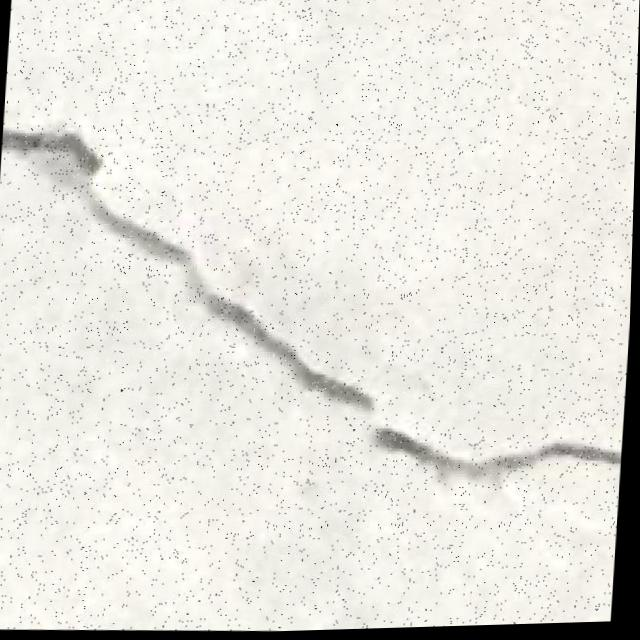Crack: (0, 101, 637, 513)
